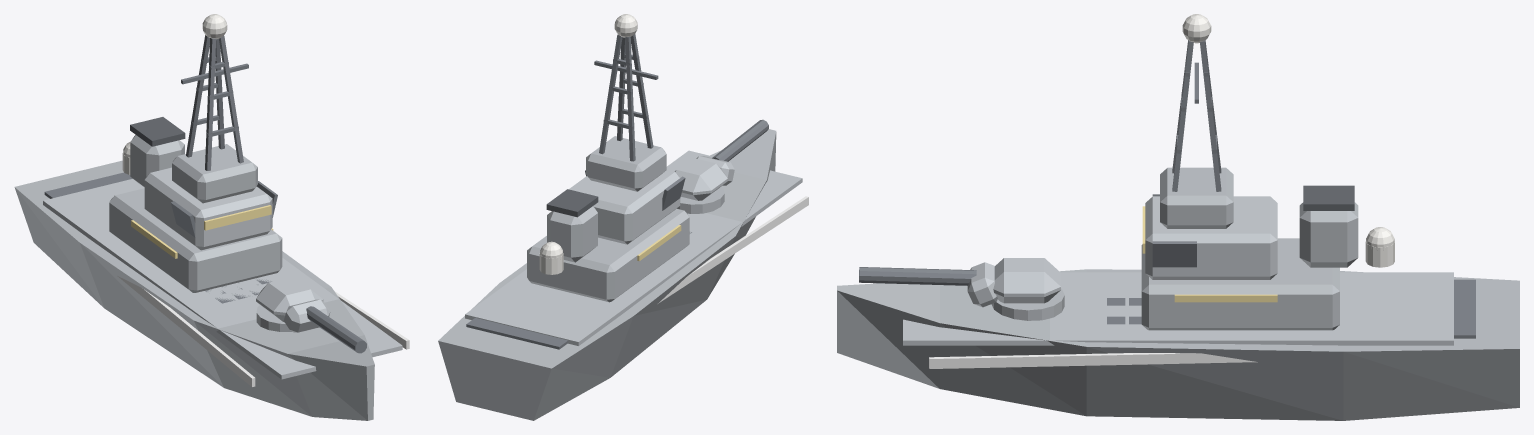
The model's file is destroyer.glb.
The picture shows the model from 3 angles, left to right: view 1: azimuth 30°, elevation 25°; view 2: azimuth 150°, elevation 25°; view 3: azimuth 270°, elevation 25°; orthographic projection. The views are drawn at different scales.
Parts seen in each view (by area): view 1: main, turret; view 2: main, turret; view 3: main, turret.
Part boxes in pixels (box(x1,y1,x2,y2)): main: box(14, 14, 409, 420); turret: box(256, 276, 366, 353); main: box(438, 14, 808, 420); turret: box(674, 119, 768, 213); main: box(837, 14, 1519, 420); turret: box(859, 258, 1064, 320).
Bounding box in the file's own units: 0.572 × 1.14 × 1.86.
